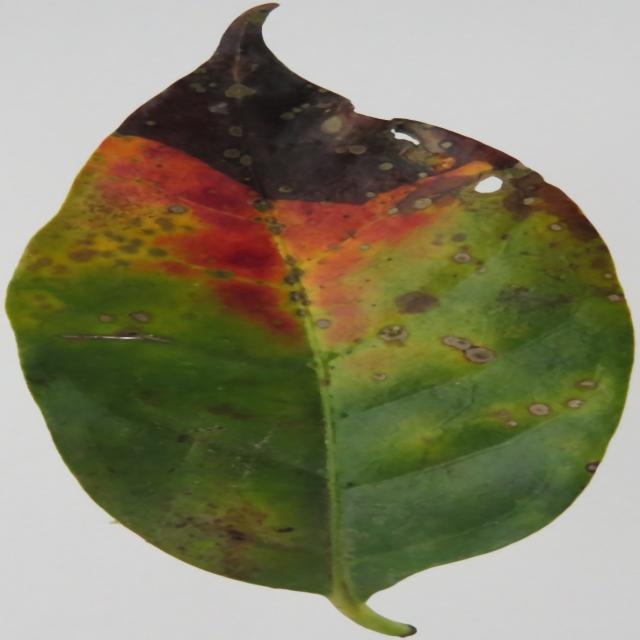DeficienciaNutricional-Fosforo: (7, 5, 631, 598)
